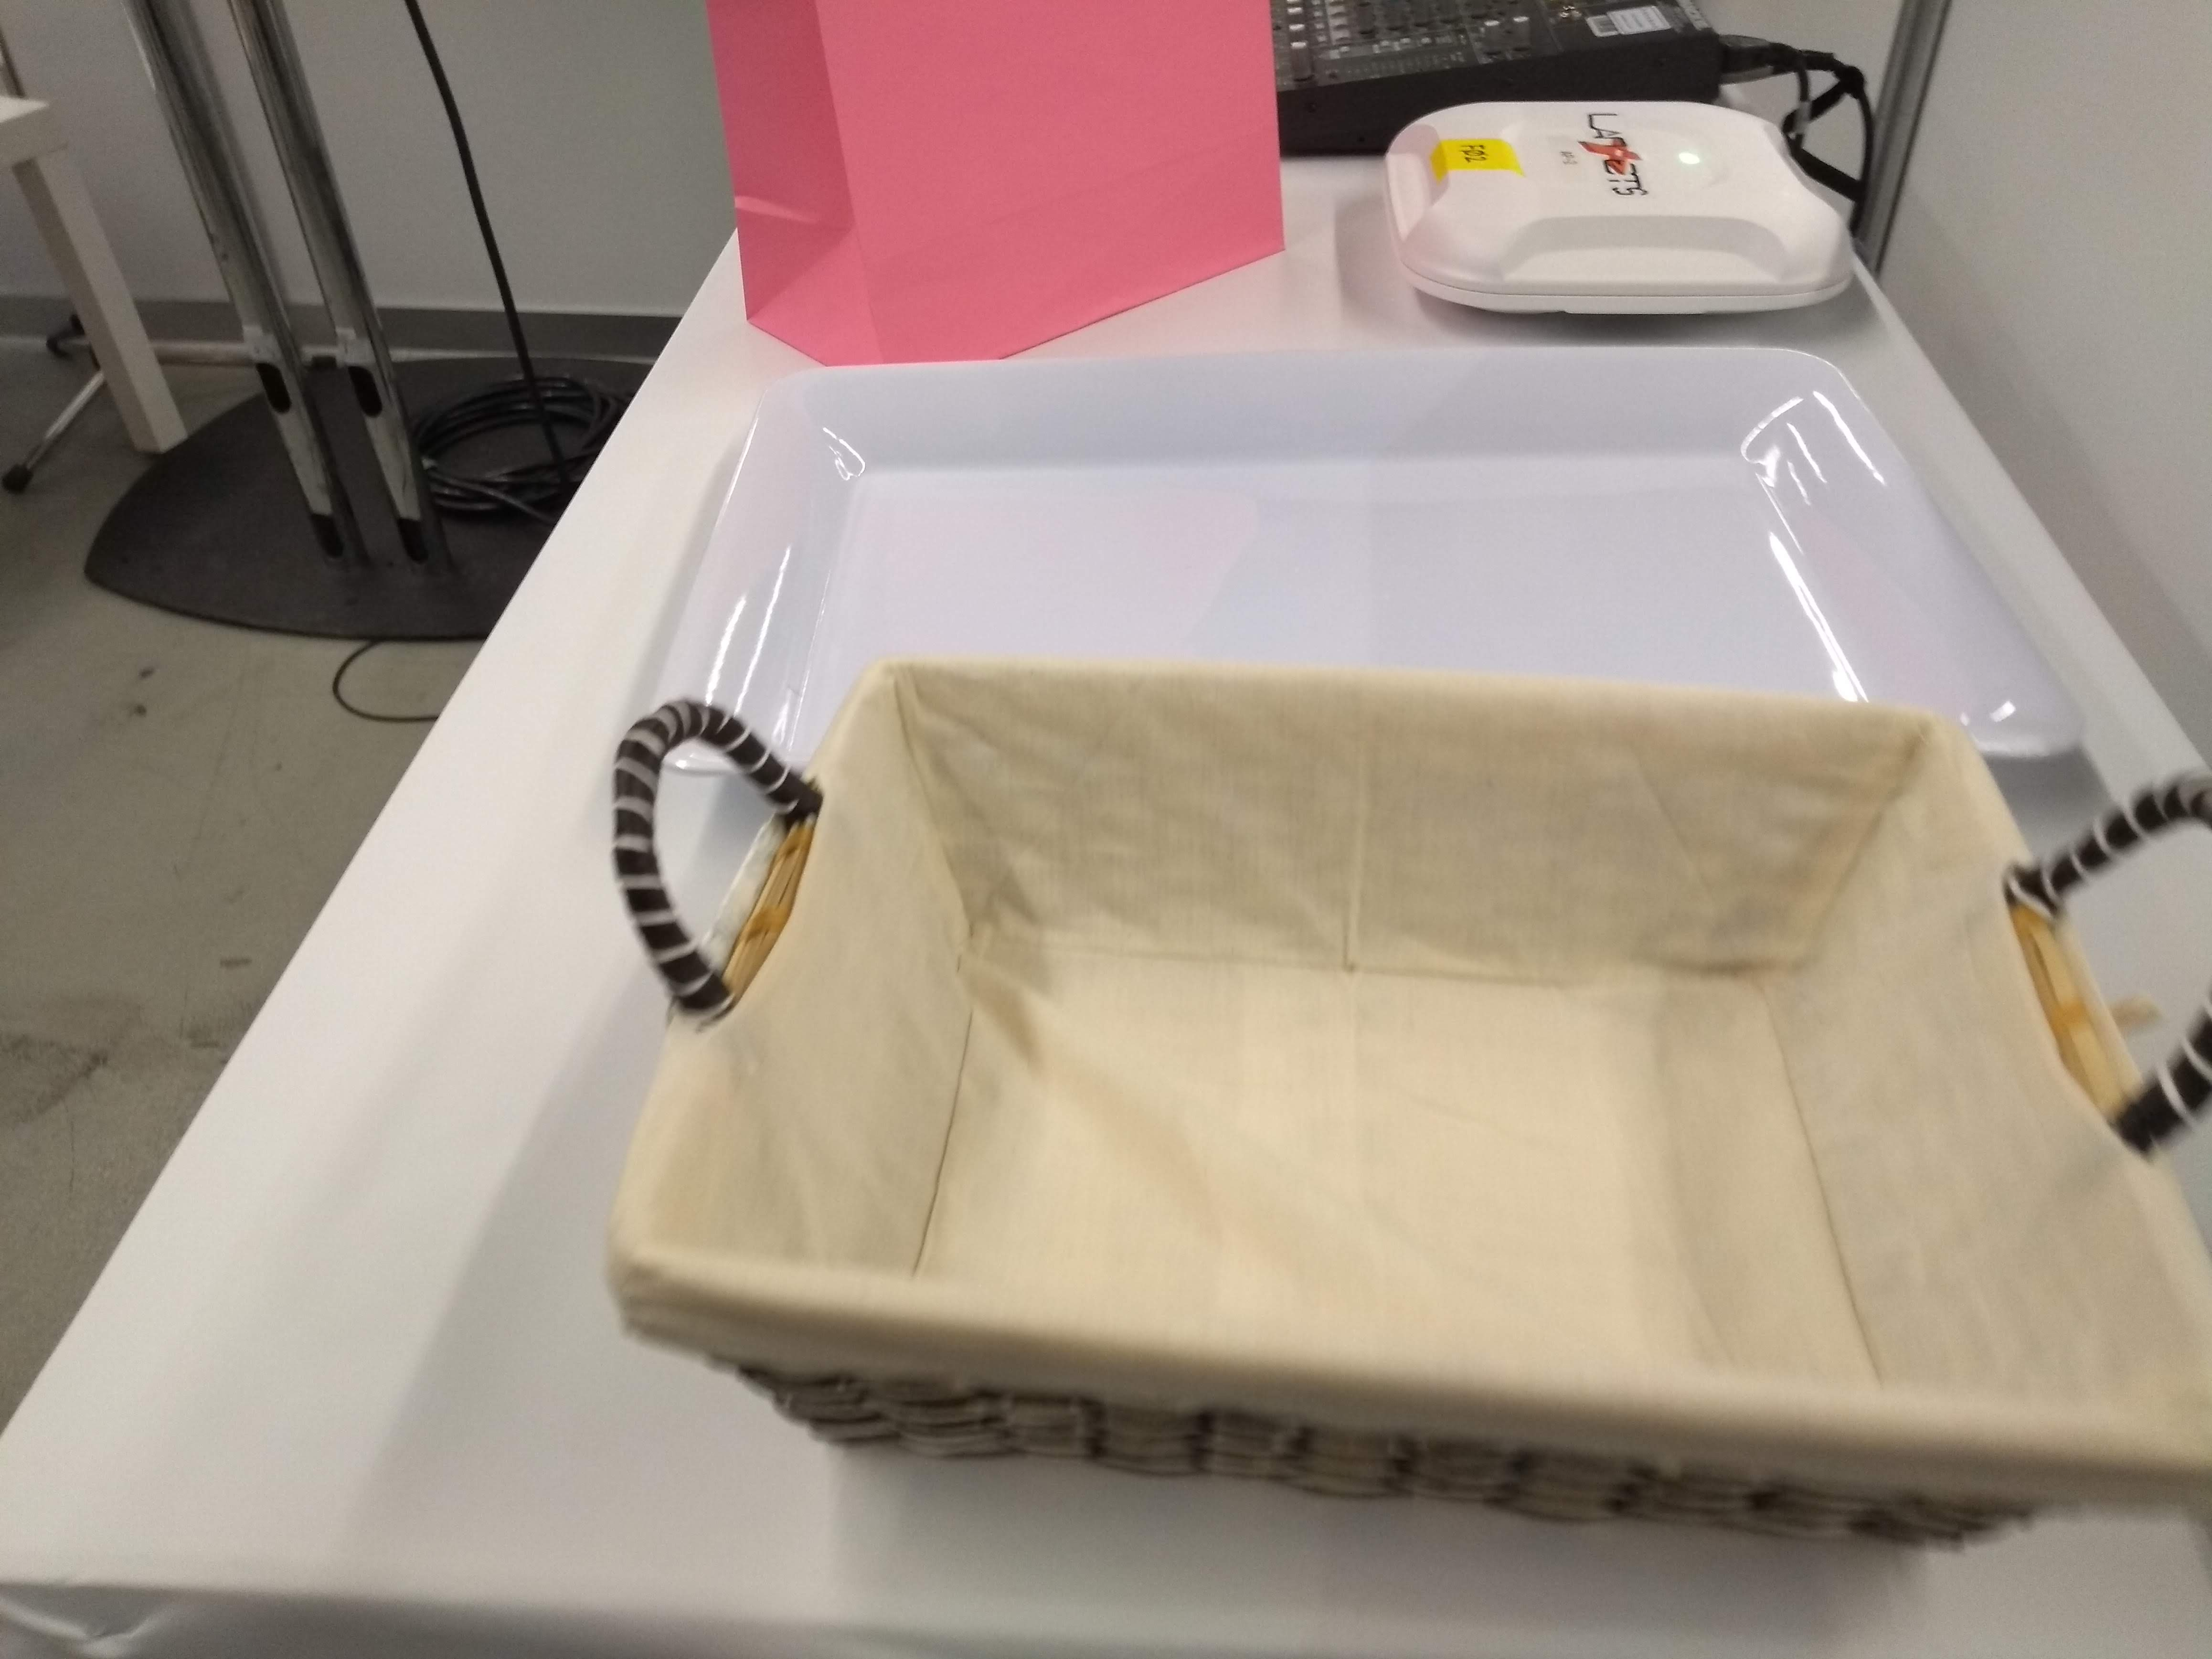basket: (594, 648, 2212, 1572)
help_me_carry_opl: (700, 2, 1296, 376)
tray: (639, 343, 2094, 807)
